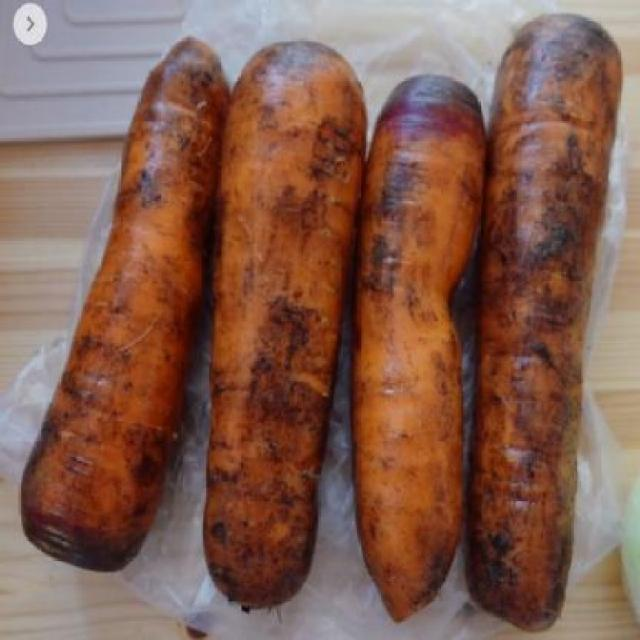carrot: (33, 33, 216, 593), (206, 37, 361, 608), (483, 14, 622, 634), (361, 76, 479, 624)
